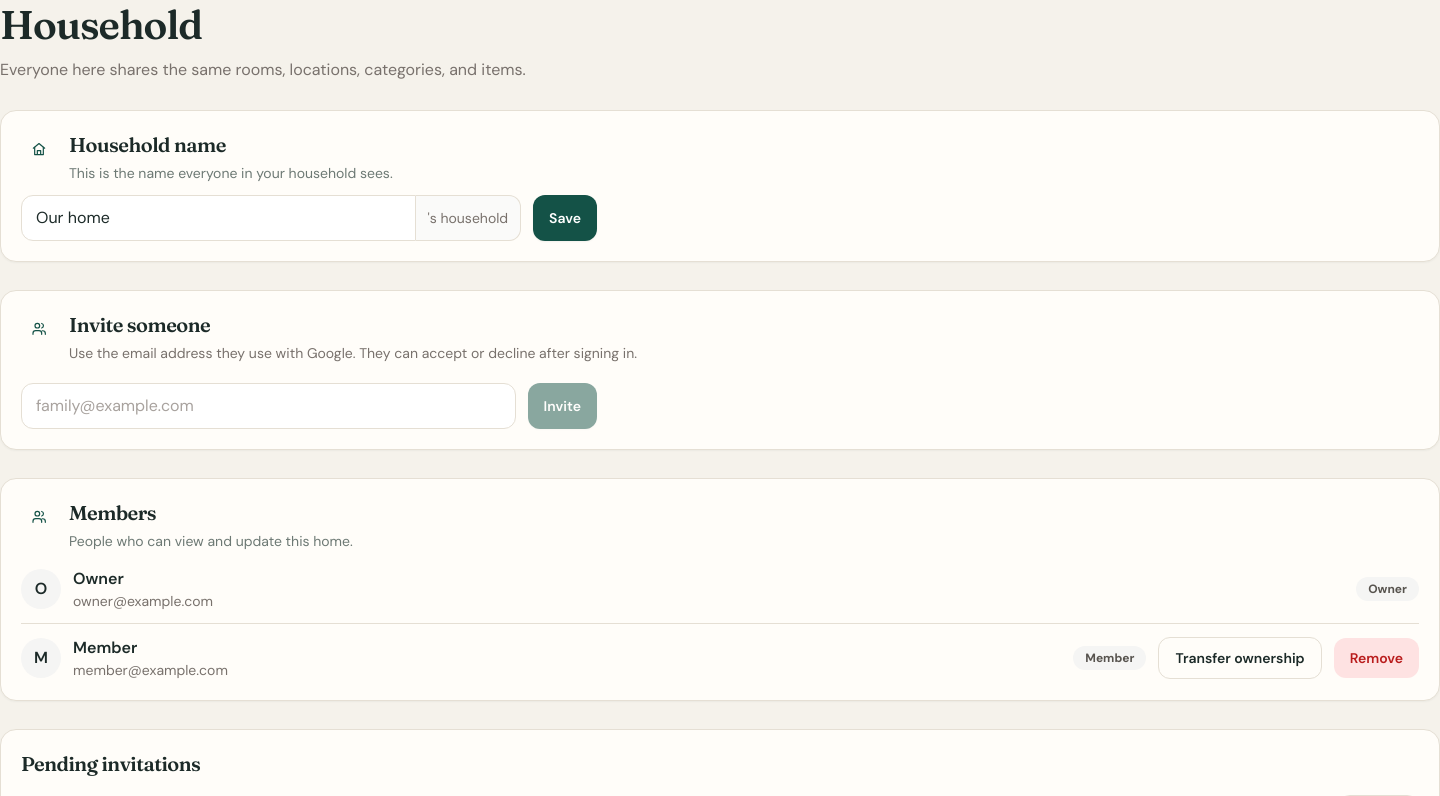
Test: HouseholdPage › confirms transfer and removes owner controls after success
Click the button with aria-label "Transfer ownership to Member". click: coordinates (1240, 658)
box: [1158, 637, 1322, 679]
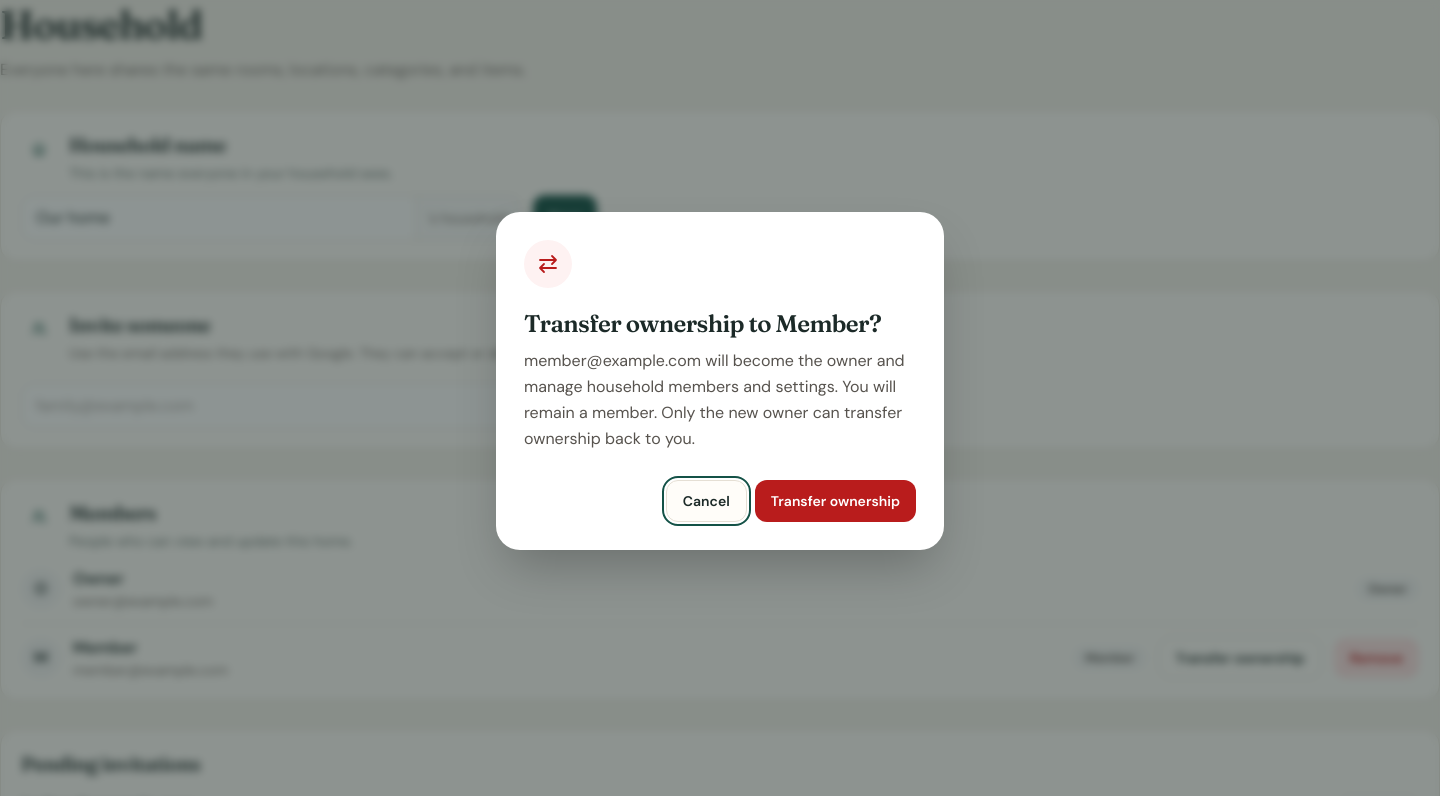
Check: the text "Only the new owner can transfer ownership back" is shown, box [524, 350, 905, 449]
Click the button "Transfer ownership". click: coordinates (835, 501)
box: [755, 480, 916, 522]
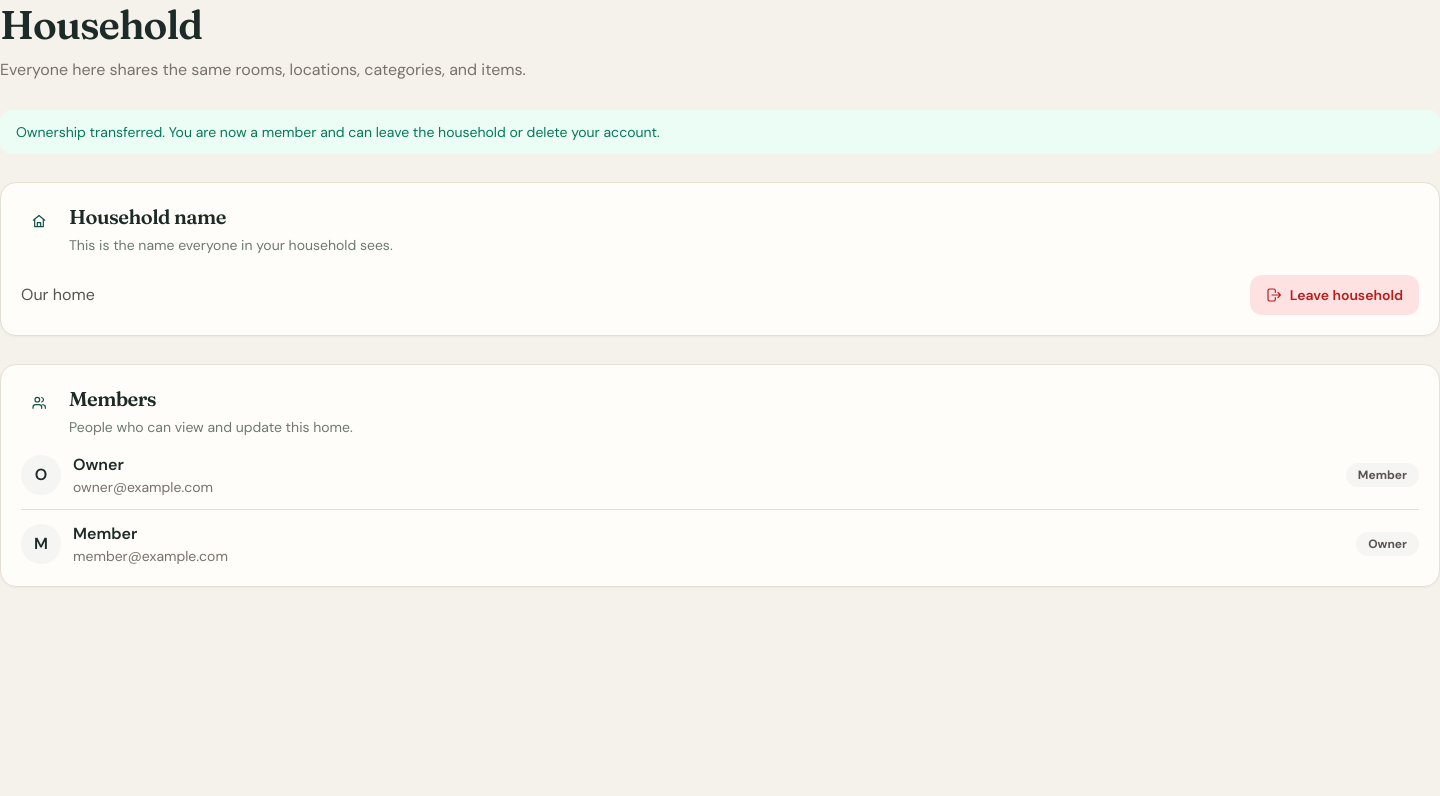
Check: the text "Ownership transferred. You are now a member" is shown, box [16, 123, 660, 141]
Check: the button "Save" is gone
Check: the button "Remove" is gone
